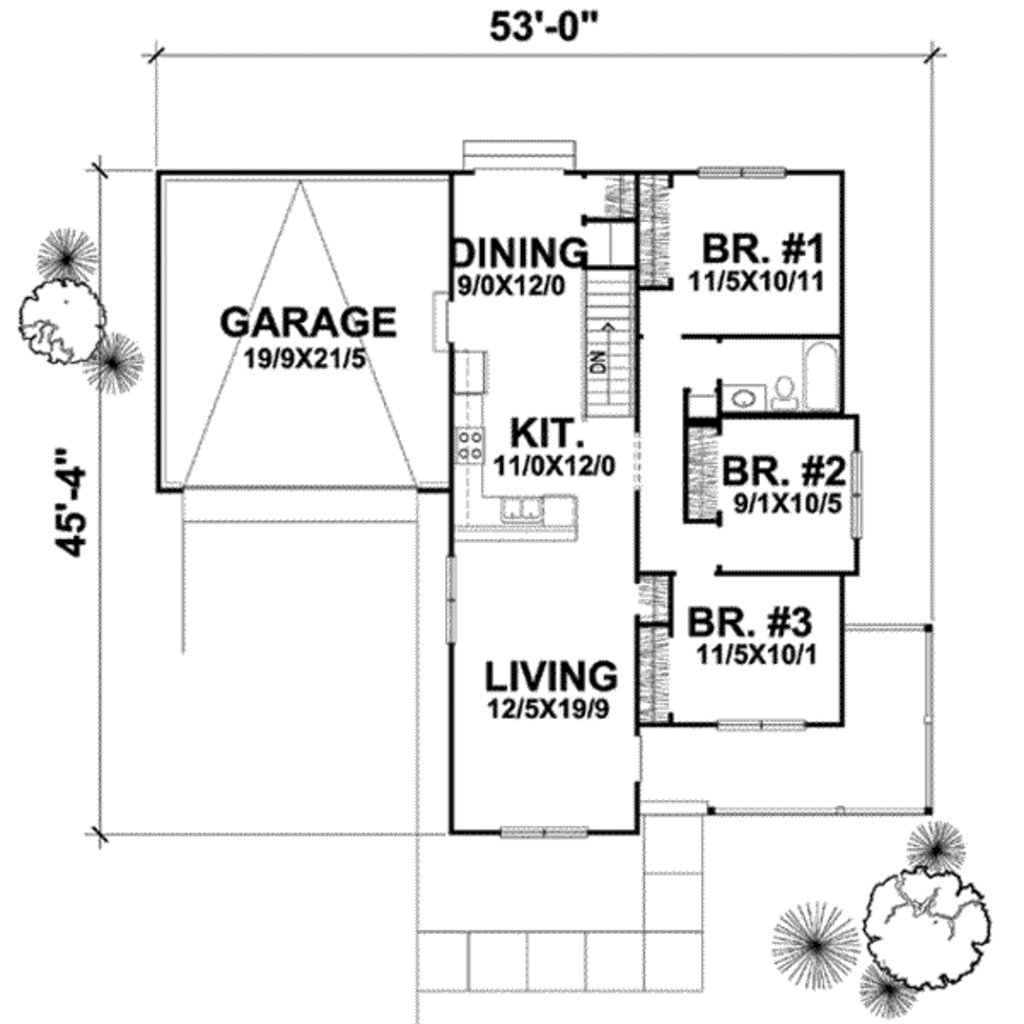large_sink: (761, 367, 799, 411)
small_sink: (716, 384, 766, 417)
stairs: (581, 270, 634, 425), (461, 130, 578, 175)
tub: (803, 334, 843, 411)
twin_sink: (498, 497, 546, 529)
windows: (687, 157, 792, 183), (710, 713, 815, 737), (493, 823, 595, 844), (440, 554, 458, 650), (850, 446, 865, 544)
